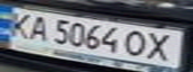0: (66, 20, 87, 48)
4: (100, 25, 124, 55)
5: (48, 17, 72, 46)
6: (84, 22, 103, 52)
A: (24, 14, 54, 43)
K: (3, 9, 36, 39)
O: (121, 28, 151, 58)
X: (142, 29, 184, 63)
